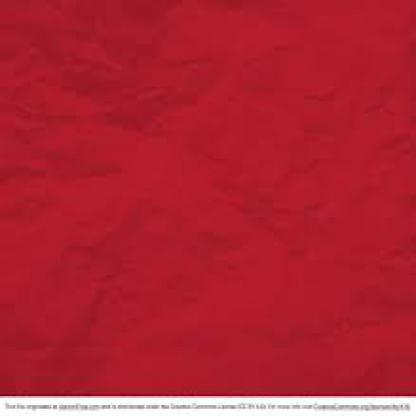paper: (0, 0, 415, 393)
